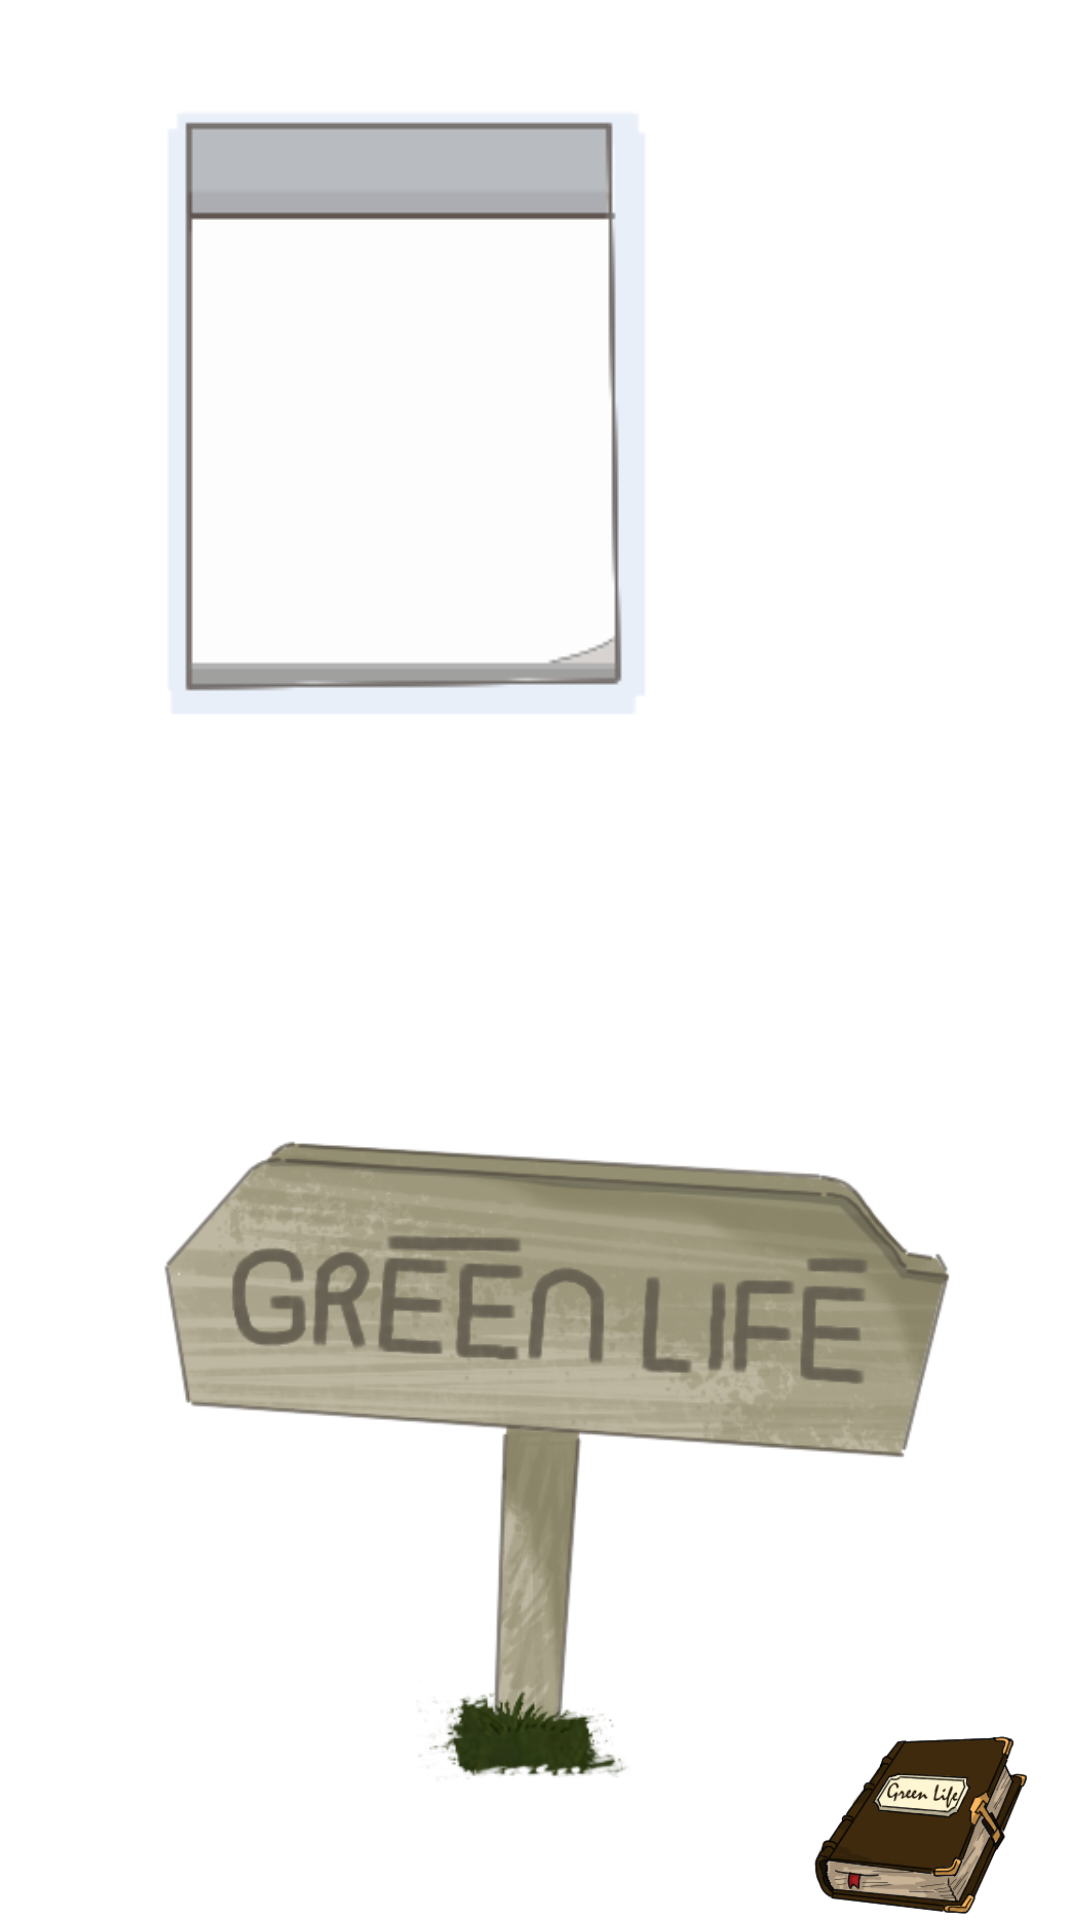

Named icons in this screenshot (1080px×1920px) and their bounding boxes, (x1, y1, x2, y2):
costomization book: (814, 1736, 1027, 1914)
